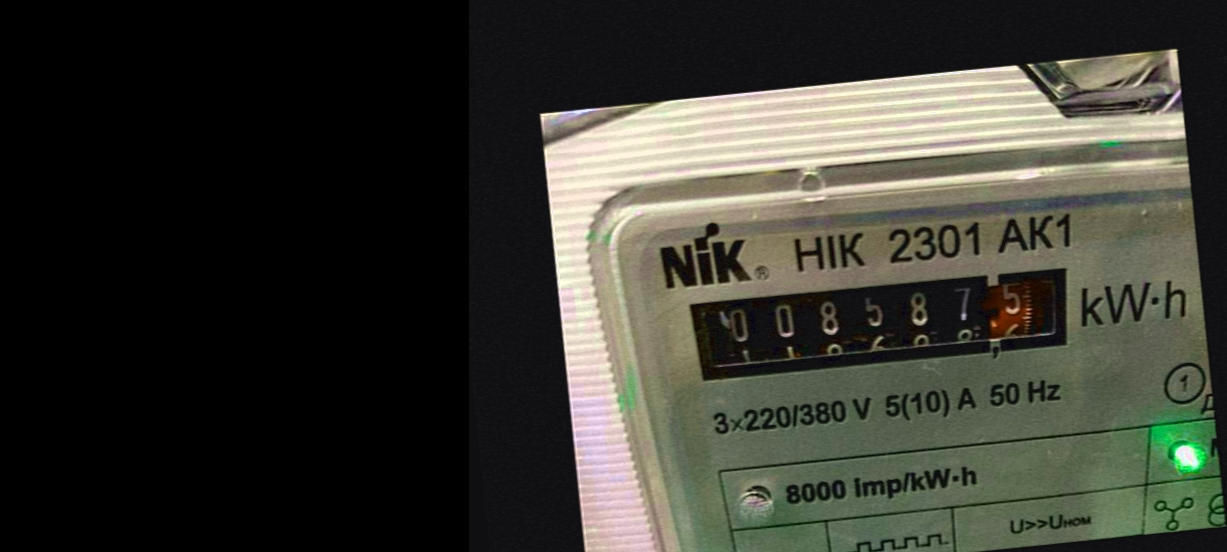0: (772, 300, 800, 342)
1: (726, 305, 754, 348)
5: (1000, 278, 1028, 320), (863, 292, 890, 332)
7: (951, 284, 978, 327)
8: (816, 297, 845, 341), (908, 288, 933, 331)
screen: (669, 245, 1097, 406)
